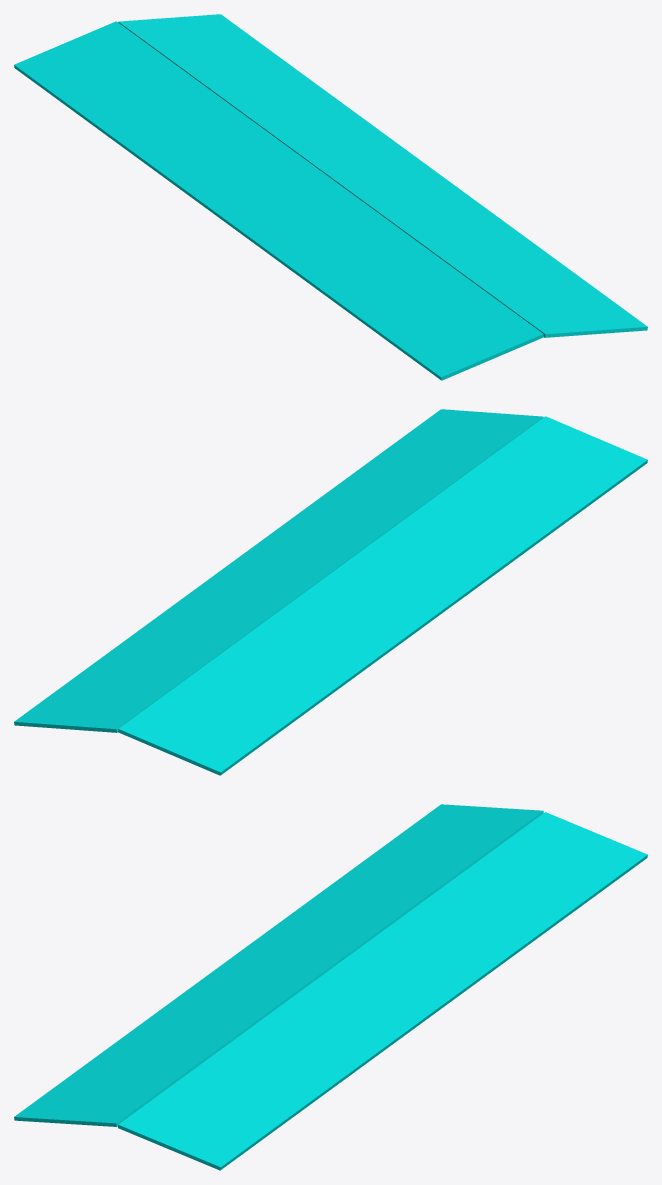
The model's file is DairyDessertsStandGlass.fbx.
The picture shows the model from 3 angles, top to bottom: view 1: azimuth 30°, elevation 25°; view 2: azimuth 150°, elevation 25°; view 3: azimuth 330°, elevation 25°; orthographic projection.
Visible parts, largest first — view 1: BICPGlass; view 2: BICPGlass; view 3: BICPGlass.
Part boxes in pixels (x1,y1,x2,y2): BICPGlass: [14, 14, 647, 380]; BICPGlass: [14, 409, 647, 775]; BICPGlass: [14, 804, 647, 1170].
Size of the model in its own units: 277 by 28.21 by 990.
